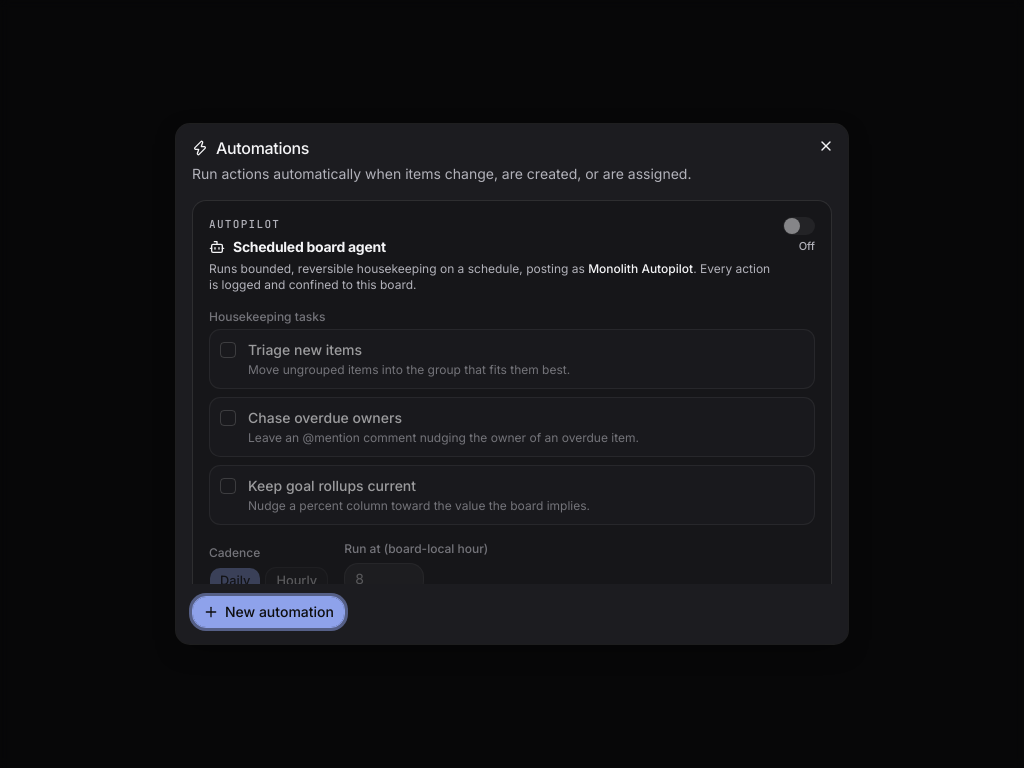
describe-an-automation (AI) › shows an inline alert when generate fails
Click the button "New automation": click(268, 612) x1=192 y1=596 x2=345 y2=628
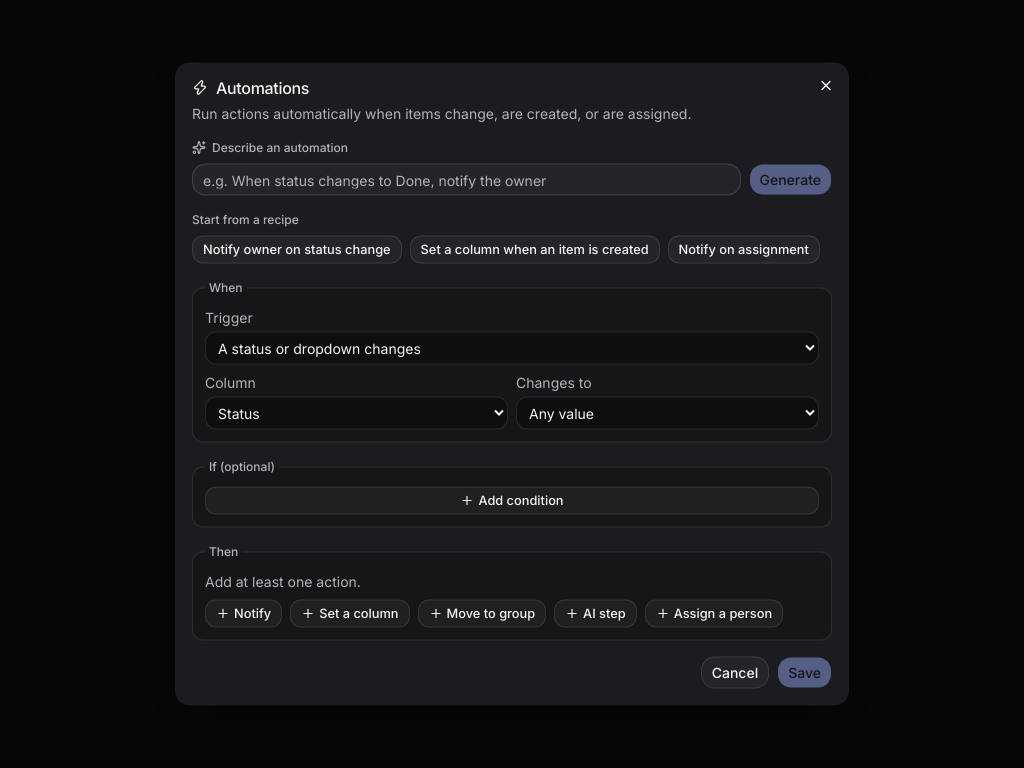
In the field named "Describe an automation": (466, 180) x1=192 y1=164 x2=740 y2=196, type "do something impossible"
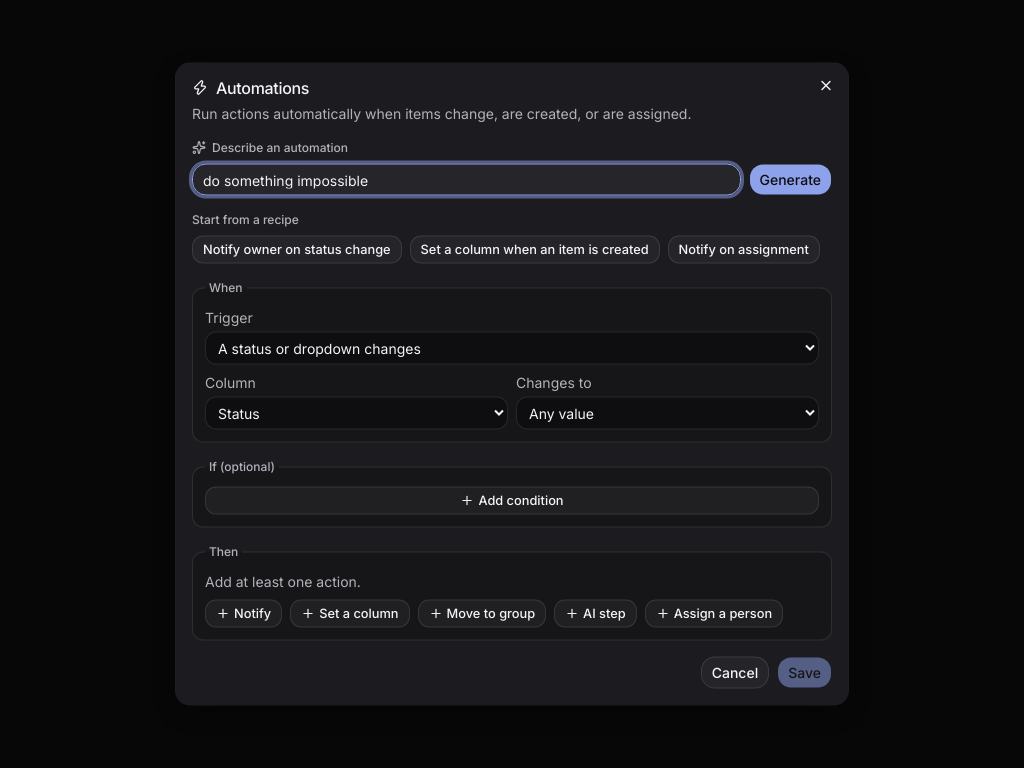
Click the button "Generate": click(790, 180) x1=748 y1=164 x2=832 y2=196
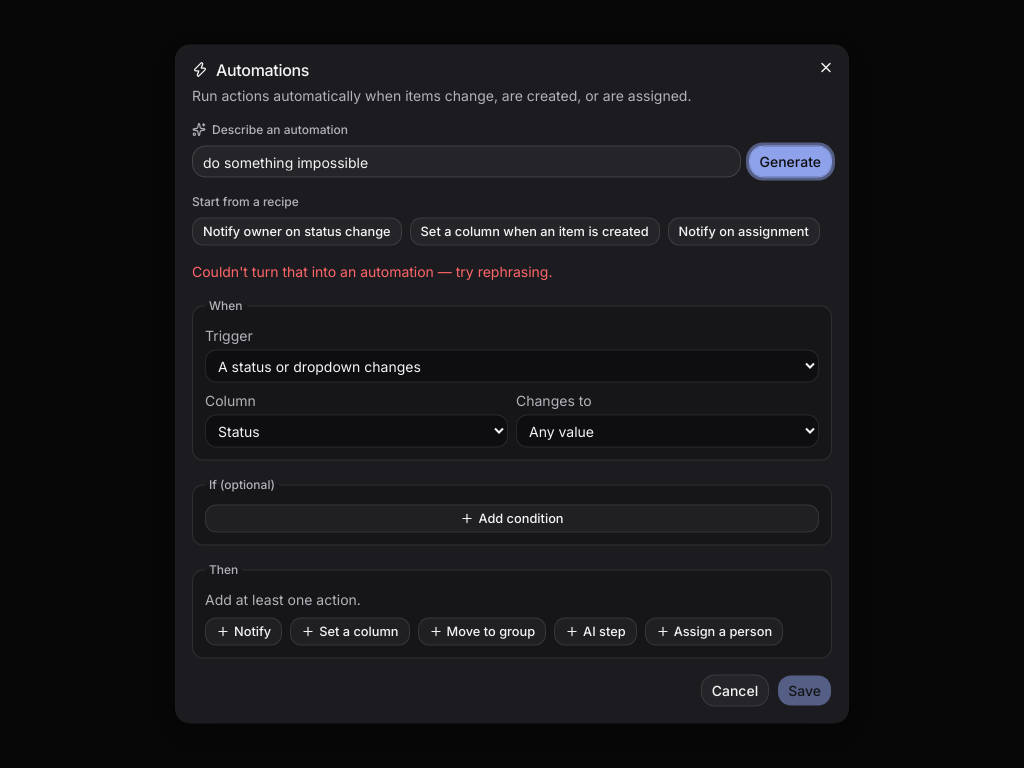
Expected: the message shows "try rephrasing", x1=192 y1=262 x2=552 y2=280
